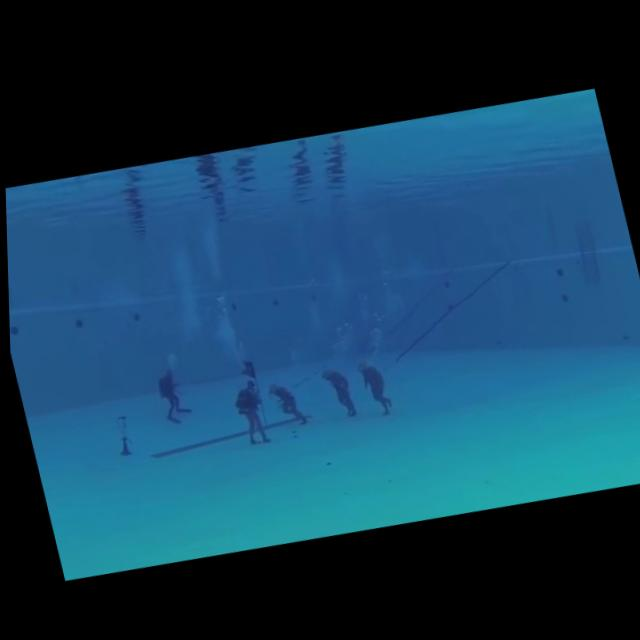human: (220, 369, 276, 453), (144, 356, 196, 432), (257, 366, 312, 432), (347, 348, 396, 421), (313, 355, 362, 423)
